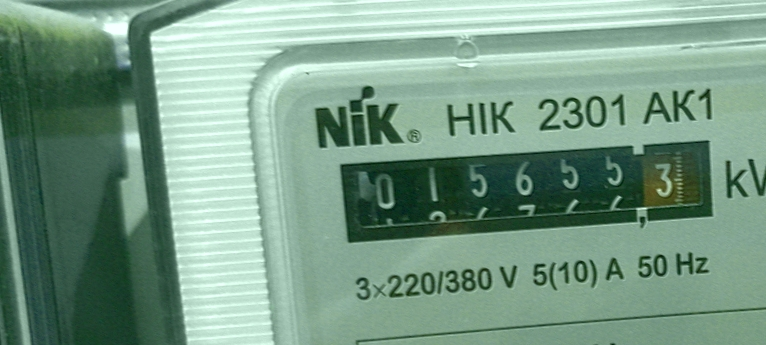0: (369, 167, 397, 210)
1: (421, 163, 442, 203)
3: (651, 159, 673, 196)
5: (463, 161, 489, 198), (556, 156, 581, 189), (602, 152, 623, 186)
6: (510, 158, 535, 196)
screen: (323, 118, 728, 259)
